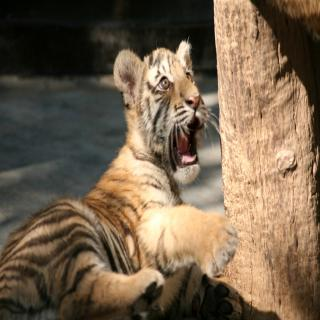Tiger: (0, 34, 240, 320)
